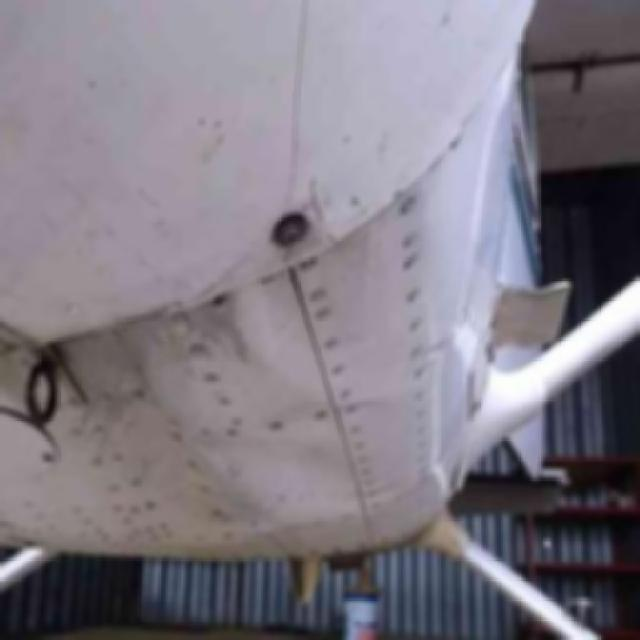dent: (237, 256, 343, 405), (229, 422, 343, 510)
